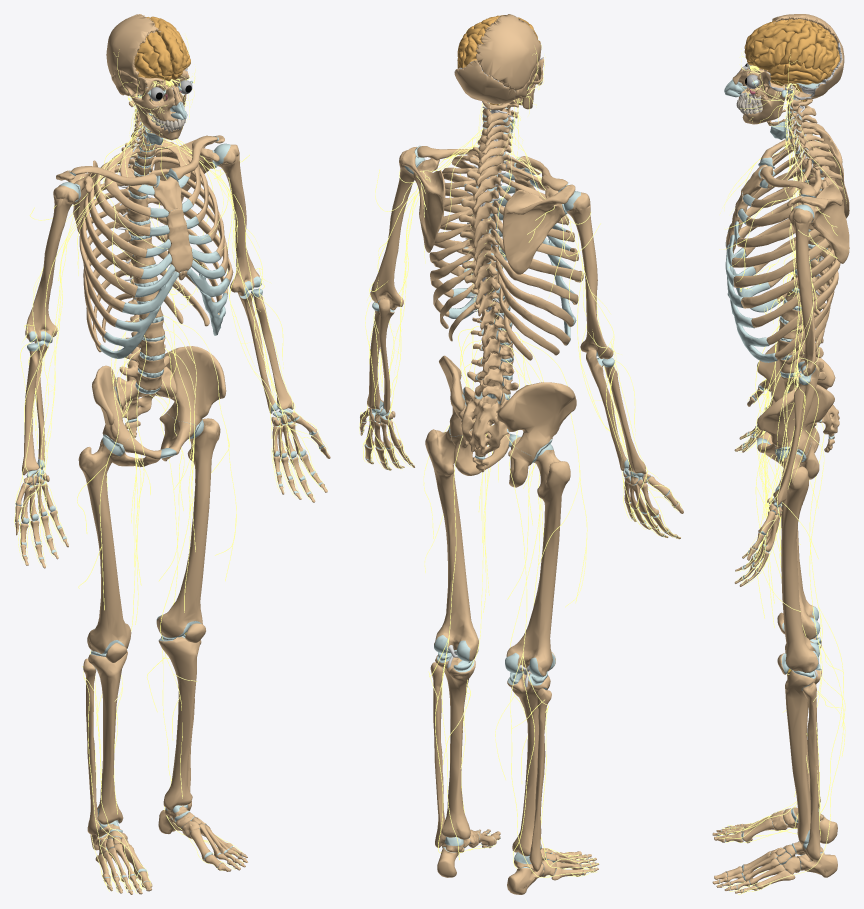
Rendered from neurology.glb.
3 renders of one model, left to right at view 1: azimuth 30°, elevation 25°; view 2: azimuth 150°, elevation 25°; view 3: azimuth 270°, elevation 25°, orthographic. The views are drawn at different scales.
Visible parts, largest first — view 1: Object_6, Object_102, Object_54, Object_40, Object_61; view 2: Object_6, Object_102, Object_54, Object_61, Object_40; view 3: Object_6, Object_102, Object_54, Object_40, Object_61, Object_163, Object_162.
Part boxes in pixels (x1,y1,x2,y2): Object_6: (15, 14, 330, 894); Object_102: (14, 35, 329, 893); Object_54: (15, 94, 324, 890); Object_40: (134, 16, 190, 81); Object_61: (69, 113, 218, 656); Object_6: (360, 14, 683, 894); Object_102: (359, 31, 682, 877); Object_54: (362, 86, 678, 875); Object_61: (413, 145, 568, 683); Object_40: (457, 15, 540, 105); Object_6: (712, 14, 849, 893); Object_102: (716, 48, 846, 894); Object_54: (718, 79, 827, 892); Object_40: (744, 19, 840, 101); Object_61: (757, 82, 834, 677); Object_163: (736, 94, 762, 115); Object_162: (735, 42, 842, 99).
Size of the model in its own units: 0.6693 by 1.7 by 0.2501.
